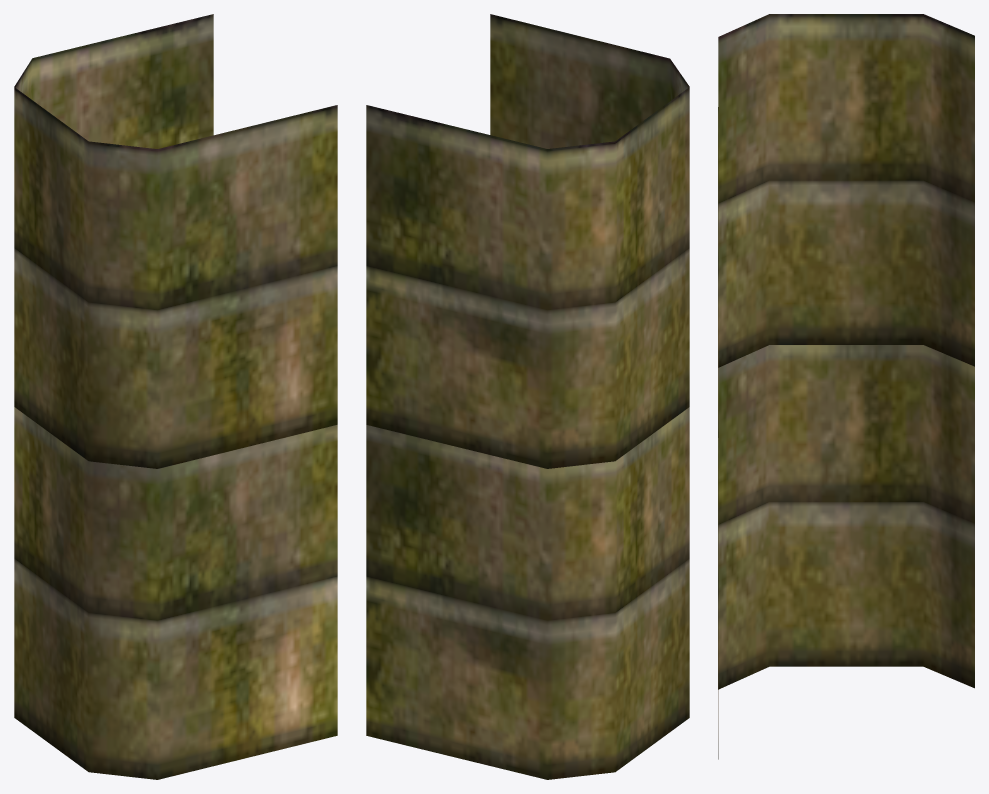
The model's file is OVERHILL_A_01_LINE433.fbx.
3 views of the same model, side by side, from view 1: azimuth 30°, elevation 25°; view 2: azimuth 150°, elevation 25°; view 3: azimuth 270°, elevation 25° (orthographic). The views are drawn at different scales.
Visible parts, largest first — view 1: OVERHILL_A_01_LINE433; view 2: OVERHILL_A_01_LINE433; view 3: OVERHILL_A_01_LINE433.
Boxes of the visible parts, x1=… form: OVERHILL_A_01_LINE433: x1=14, y1=14, x2=337, y2=779; OVERHILL_A_01_LINE433: x1=366, y1=14, x2=689, y2=779; OVERHILL_A_01_LINE433: x1=718, y1=14, x2=974, y2=759.
Bounding box in the file's own units: 10021 × 26954 × 9604.
Materials: 1 (1 with a texture image).
